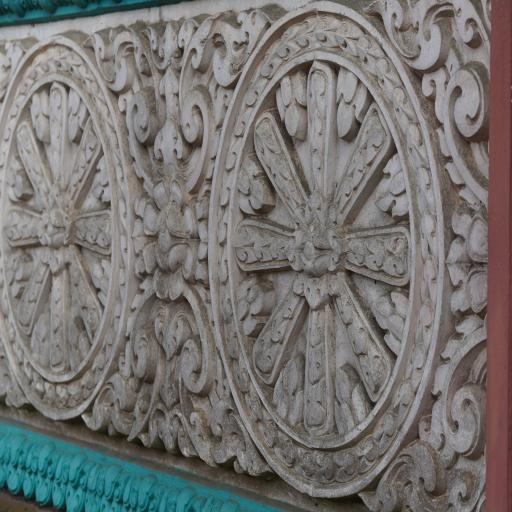hoa: (202, 6, 451, 512), (0, 37, 139, 421), (134, 174, 202, 300)
la: (432, 329, 496, 448), (440, 210, 501, 322), (425, 64, 487, 168), (371, 448, 460, 512), (118, 35, 162, 150), (179, 30, 219, 150), (173, 294, 217, 392), (143, 405, 197, 458), (131, 292, 159, 379)
lua: (53, 442, 88, 509), (26, 433, 56, 503), (1, 426, 28, 500), (84, 451, 111, 512), (113, 457, 137, 512), (138, 464, 160, 512)
